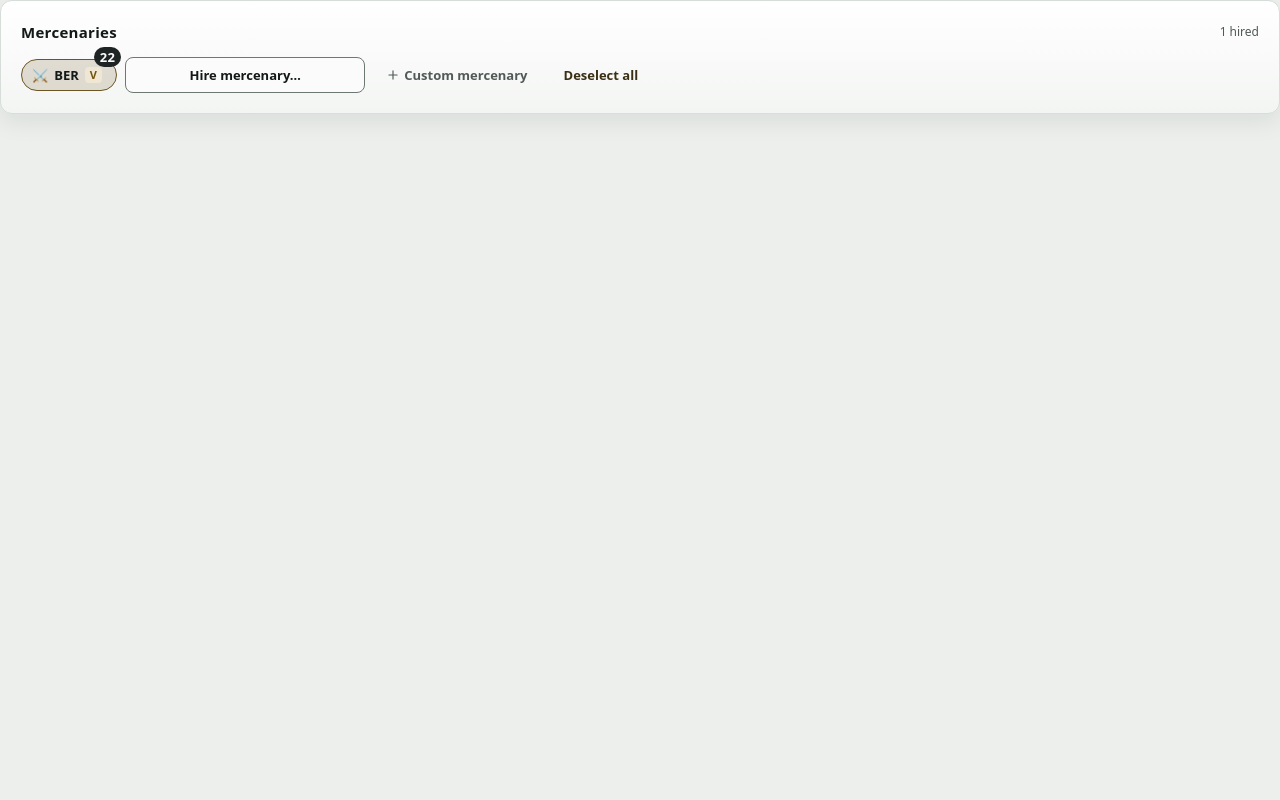
the Unlimited switch gives the quantity back to the camp
Click the button named "Bear V: owned 22" at [108, 57], box [94,47,121,67]
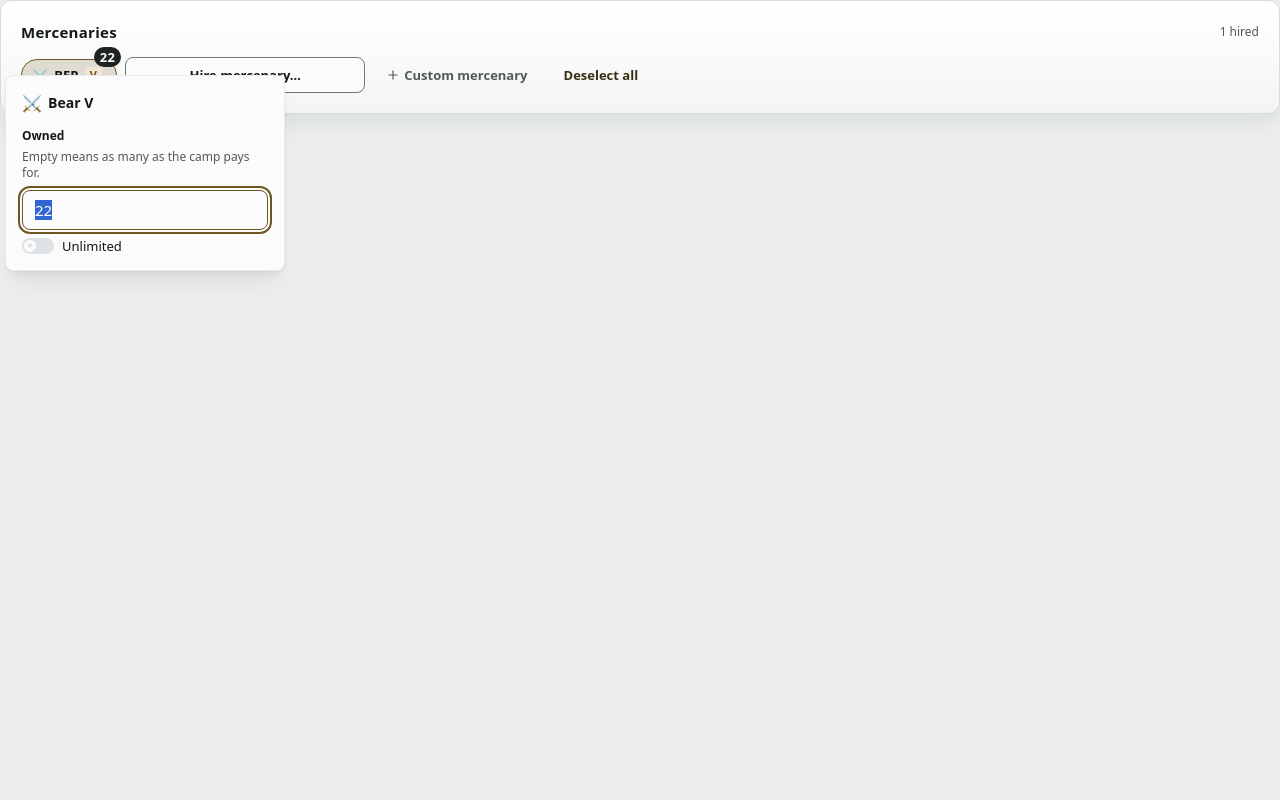
Check: the switch labelled "Unlimited" is not checked
Click the switch labelled "Unlimited" at [72, 246], box [22,237,122,255]
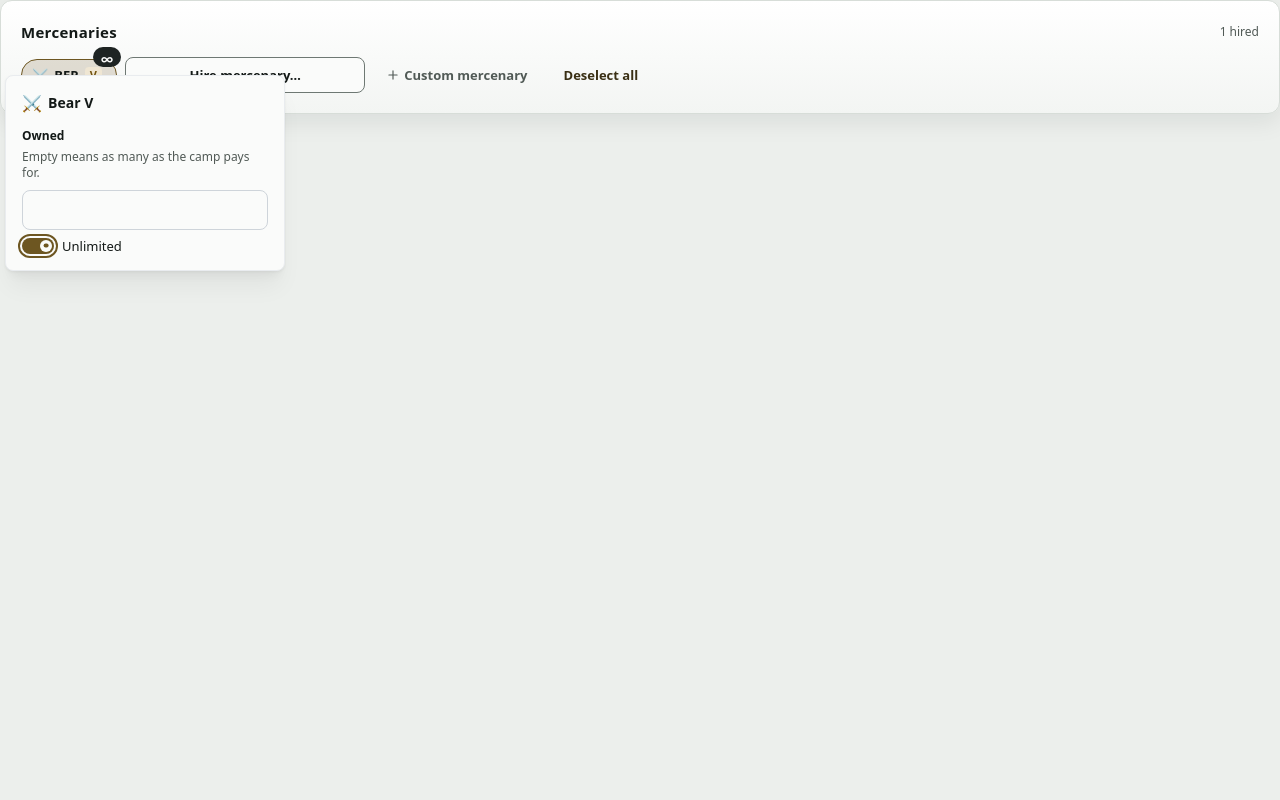
Check: the element named "Bear V: owned unlimited" shows "∞", box [93,47,121,67]
